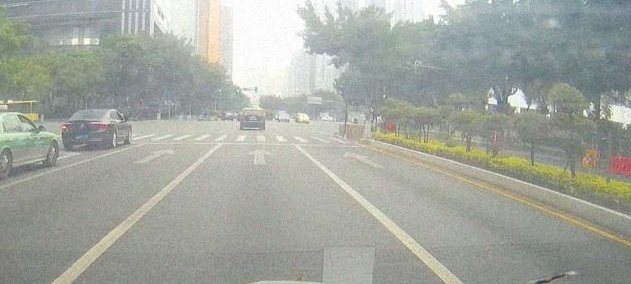L_light: (62, 124, 73, 130)
R_light: (93, 123, 107, 129)
T_light: (89, 111, 97, 113)
day-left: (62, 109, 110, 150)
